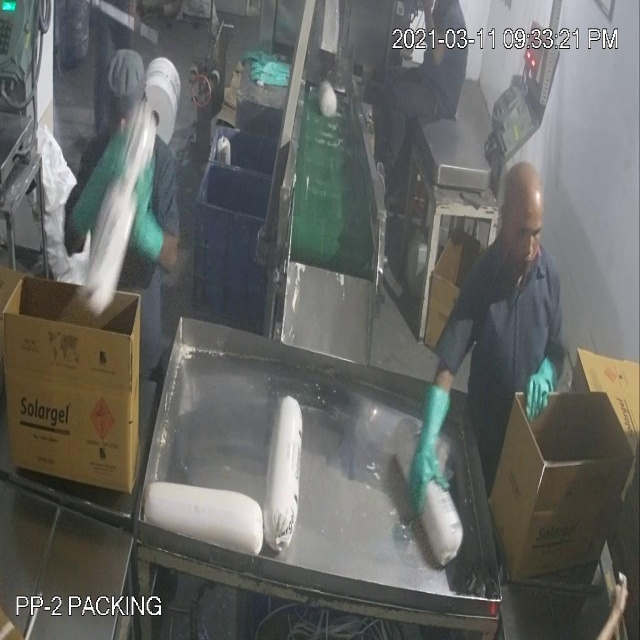Guantes: (399, 374, 460, 531)
